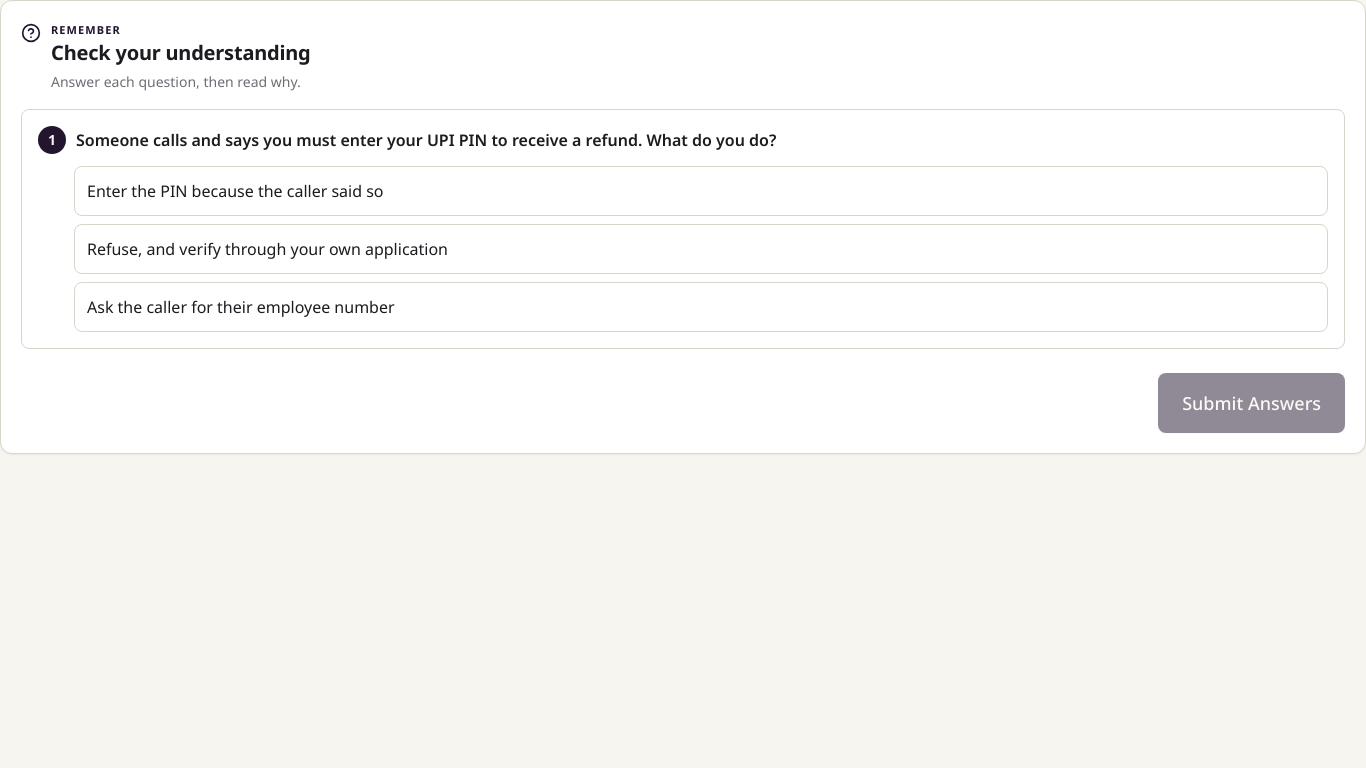
it: QuizSection presentation › shows the explanation only after a scored submission
Expected: the text "Receiving money never requires" is not shown
Click the button "Refuse, and verify through your own application".
click(268, 249)  # box [74,224,1328,274]
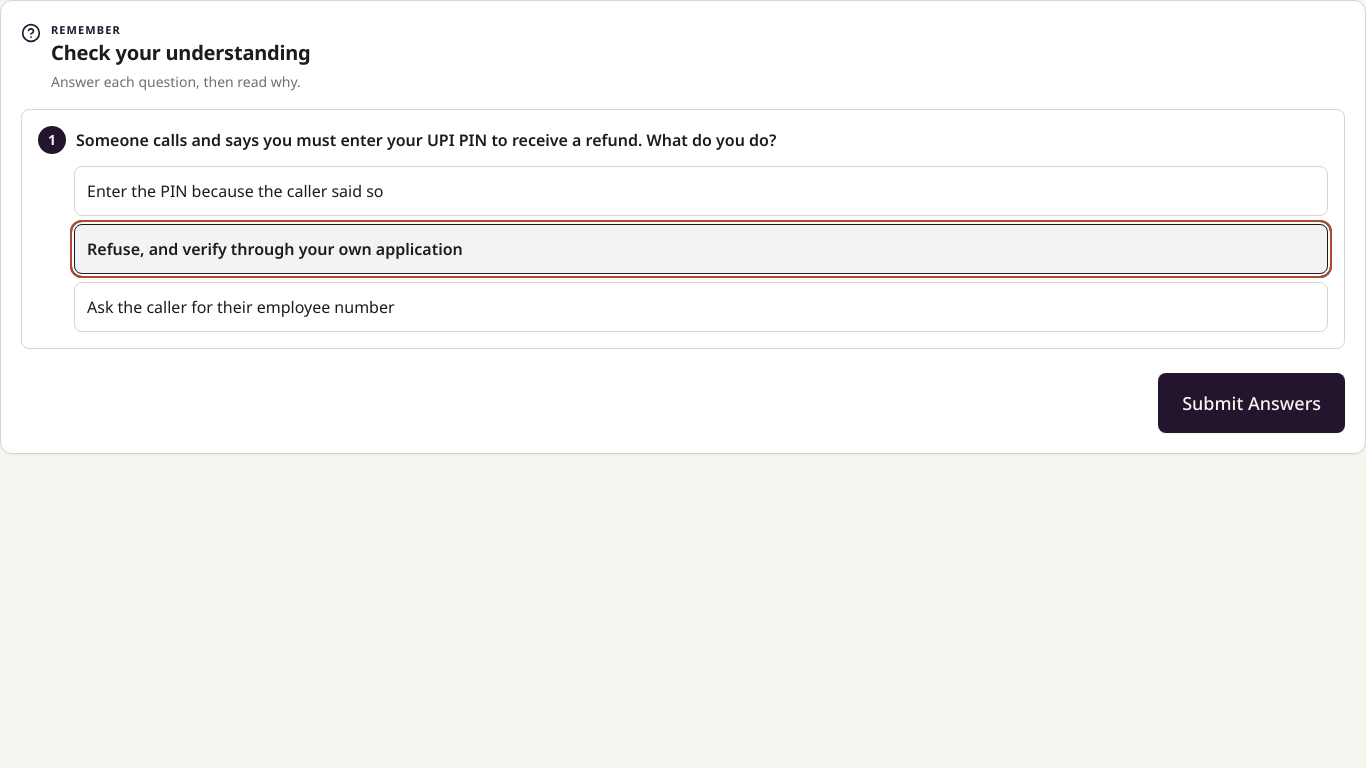
Click the button "Submit Answers".
click(1252, 403)  # box [1158,373,1345,433]
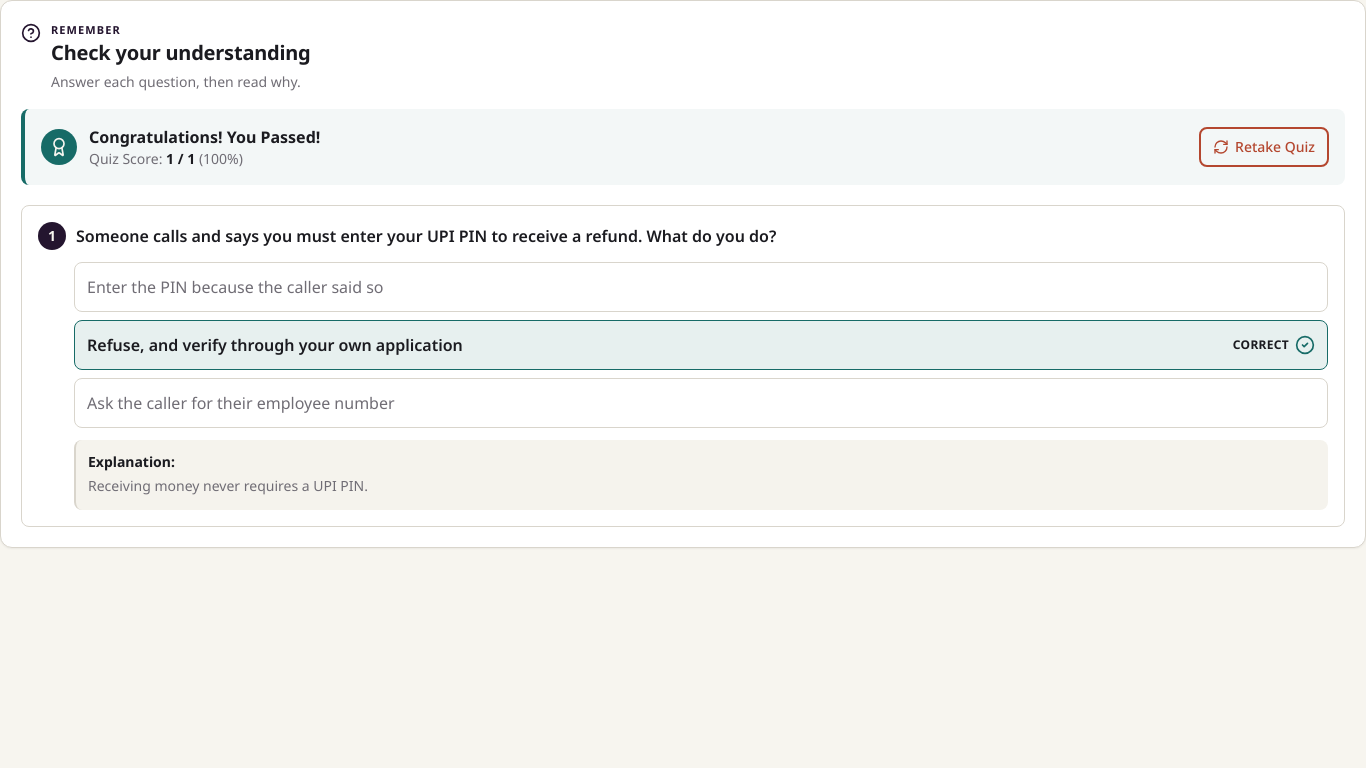
Now the text "Receiving money never requires a UPI PIN." is shown, box [88,476,368,495]
Now the text "Correct" is shown, box [1233,337,1289,353]
